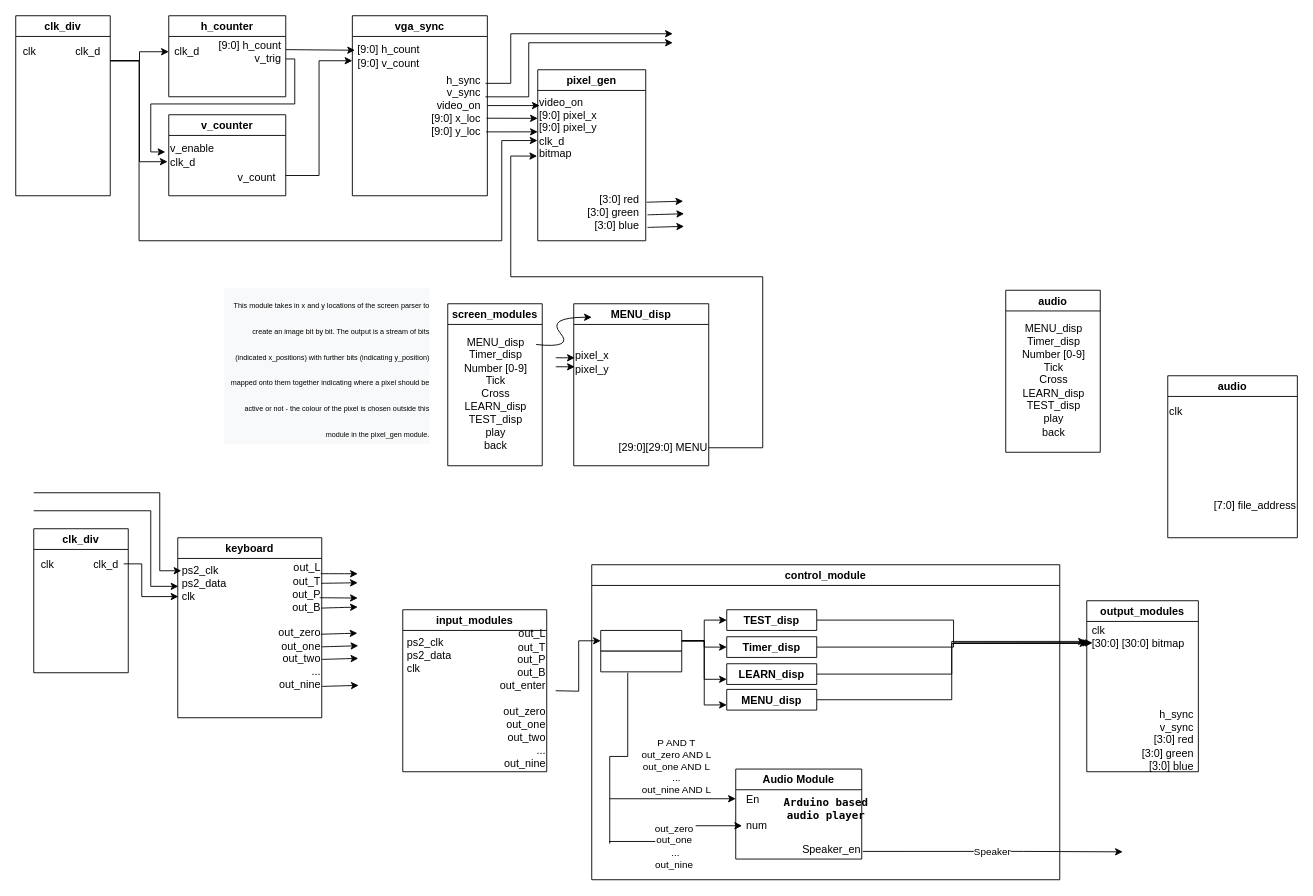
Some shapes in this 1313 by 896 pixel diagram are drawn without their labels. The shapes that lost their labels are listed below. From the top down, each one's centre as x and y in pixels, then its label:
the point at 641,640: MAIN FSM
the point at 641,661: Timer
